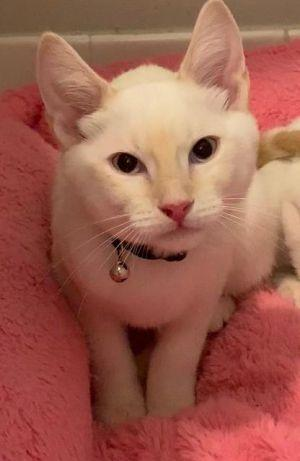siamese: (30, 1, 277, 264)
